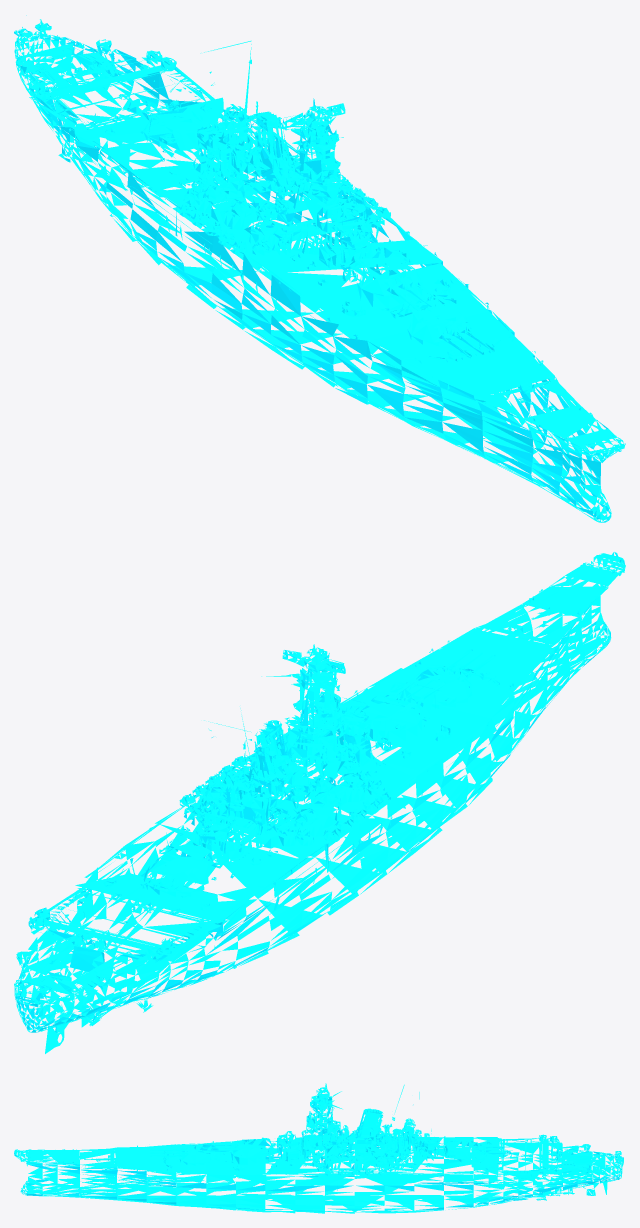
Rendered from ARP_Yamato.glb.
3 views of the same model, one above another, from view 1: azimuth 30°, elevation 25°; view 2: azimuth 150°, elevation 25°; view 3: azimuth 270°, elevation 25° (orthographic). The views are drawn at different scales.
Bounding box in the file's own units: 2.72 × 3.54 × 17.57.
